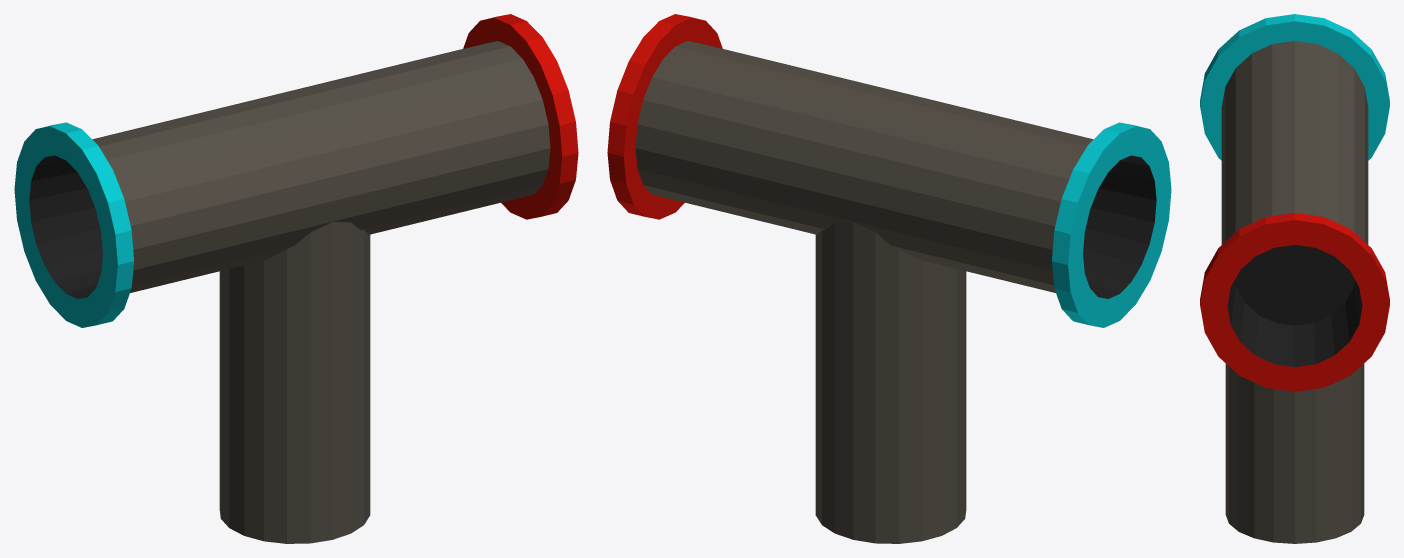
Rendered from PipeSplit.fbx.
3 views of the same model, side by side, from view 1: azimuth 30°, elevation 25°; view 2: azimuth 150°, elevation 25°; view 3: azimuth 270°, elevation 25° (orthographic). The views are drawn at different scales.
Visible parts, largest first — view 1: DoublePipe, PipeBase; view 2: DoublePipe, PipeBase; view 3: DoublePipe, PipeBase.
Boxes of the visible parts, <box> form: DoublePipe: <box>14,14,578,327</box>; PipeBase: <box>219,222,370,543</box>; DoublePipe: <box>607,14,1171,327</box>; PipeBase: <box>815,222,966,543</box>; DoublePipe: <box>1200,14,1389,391</box>; PipeBase: <box>1225,363,1364,543</box>.
Size of the model in its own units: 166 by 149 by 64.46.
